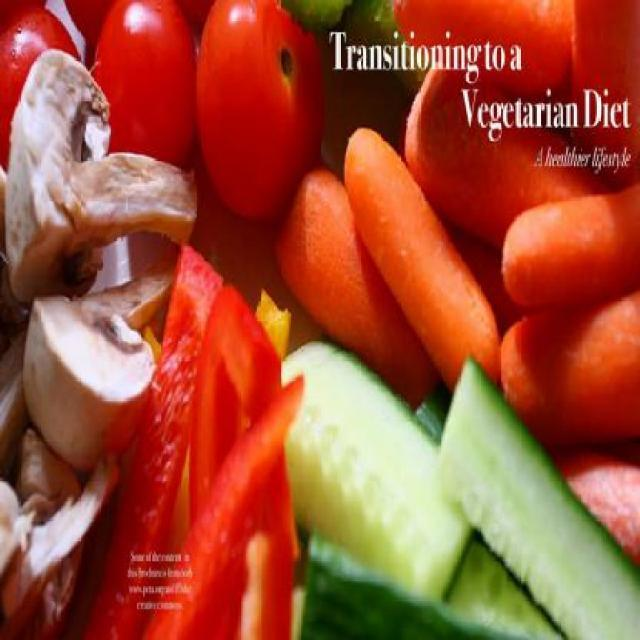Cucumber: (278, 351, 638, 638)
